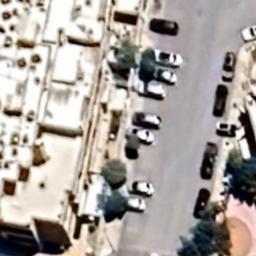SUV: (138, 79, 168, 100), (131, 112, 163, 130), (150, 18, 178, 36), (124, 180, 155, 196), (120, 196, 146, 213)
pickup: (221, 50, 237, 83)
sedan: (192, 187, 212, 220), (153, 49, 183, 67), (126, 128, 156, 145), (213, 84, 228, 116), (200, 147, 214, 181), (153, 67, 177, 84), (240, 24, 256, 41)
